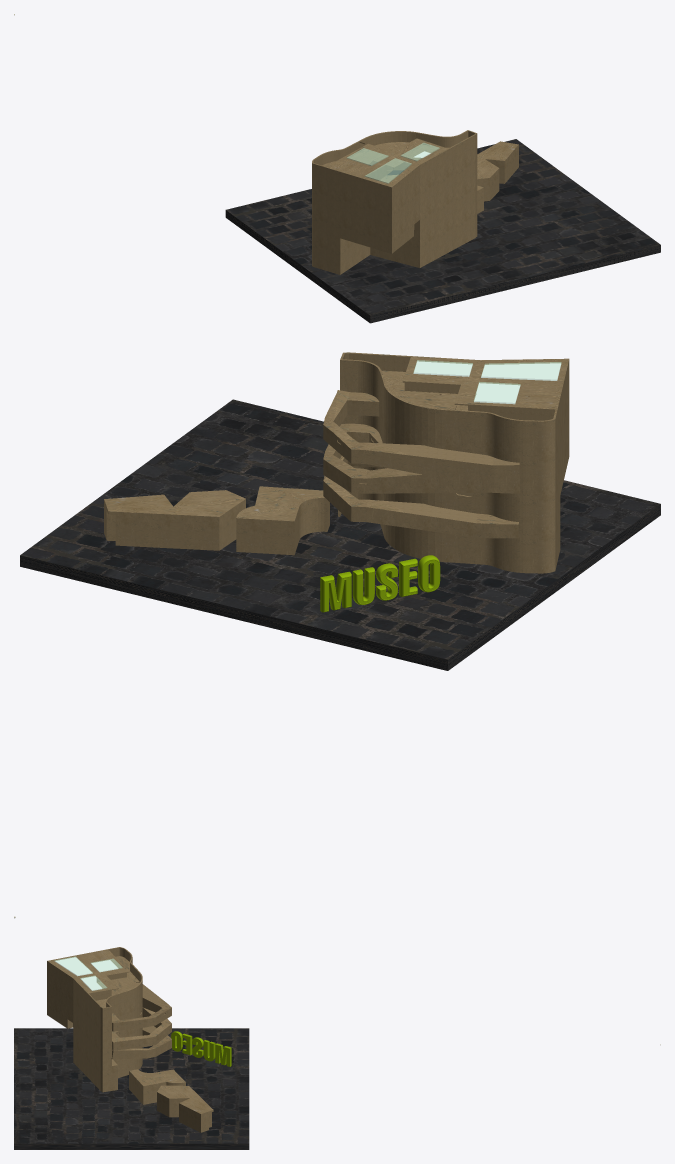
The model's file is museo.glb.
3 renders of one model, top to bottom at view 1: azimuth 30°, elevation 25°; view 2: azimuth 150°, elevation 25°; view 3: azimuth 270°, elevation 25°, orthographic. The views are drawn at different scales.
Parts seen in each view (by area): view 1: Box003, Group_002, Group_001, Group_003; view 2: Box003, Group_002, Group_003, Group_001, TextPlus001; view 3: Box003, Group_002, Group_001, Group_003, TextPlus001.
Boxes of the visible parts, x1,y1,x2,y2 form: Box003: [225, 139, 660, 323]; Group_002: [312, 130, 477, 274]; Group_001: [477, 141, 518, 213]; Group_003: [356, 157, 422, 183]; Box003: [20, 399, 660, 670]; Group_002: [338, 352, 569, 573]; Group_003: [323, 390, 520, 538]; Group_001: [104, 486, 329, 555]; TextPlus001: [320, 555, 440, 612]; Box003: [14, 1028, 249, 1149]; Group_002: [47, 947, 142, 1092]; Group_001: [129, 1069, 213, 1132]; Group_003: [111, 984, 171, 1059]; TextPlus001: [171, 1031, 231, 1066].
Size of the model in its own units: 197 by 72.51 by 467.
8 materials, 2 textured.
